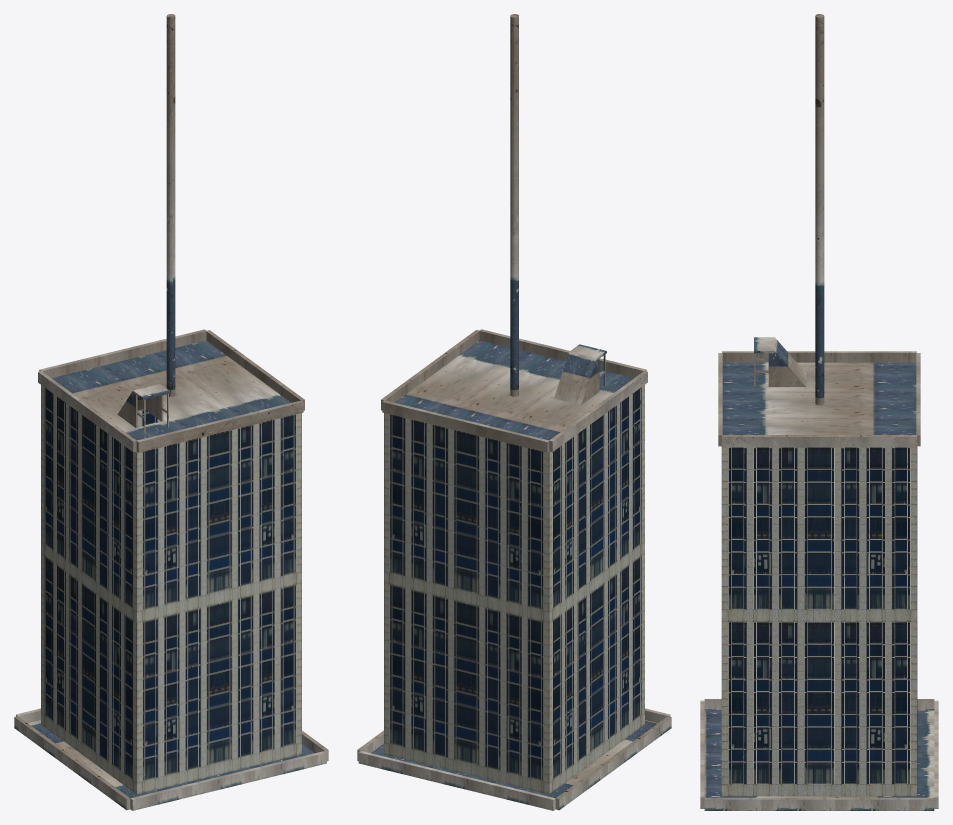
Rendered from BagSS02top_0.fbx.
3 renders of one model, left to right at view 1: azimuth 30°, elevation 25°; view 2: azimuth 150°, elevation 25°; view 3: azimuth 270°, elevation 25°, orthographic. The views are drawn at different scales.
Parts seen in each view (by area): view 1: topBox0, rooftop0; view 2: topBox0, rooftop0; view 3: topBox0, rooftop0.
Part boxes in pixels (x1,y1,x2,y2): topBox0: (41, 385, 301, 794); rooftop0: (14, 14, 328, 810); topBox0: (384, 385, 644, 794); rooftop0: (357, 14, 671, 810); topBox0: (721, 446, 917, 796); rooftop0: (700, 14, 938, 810).
Size of the model in its own units: 38.63 by 133 by 38.63.
